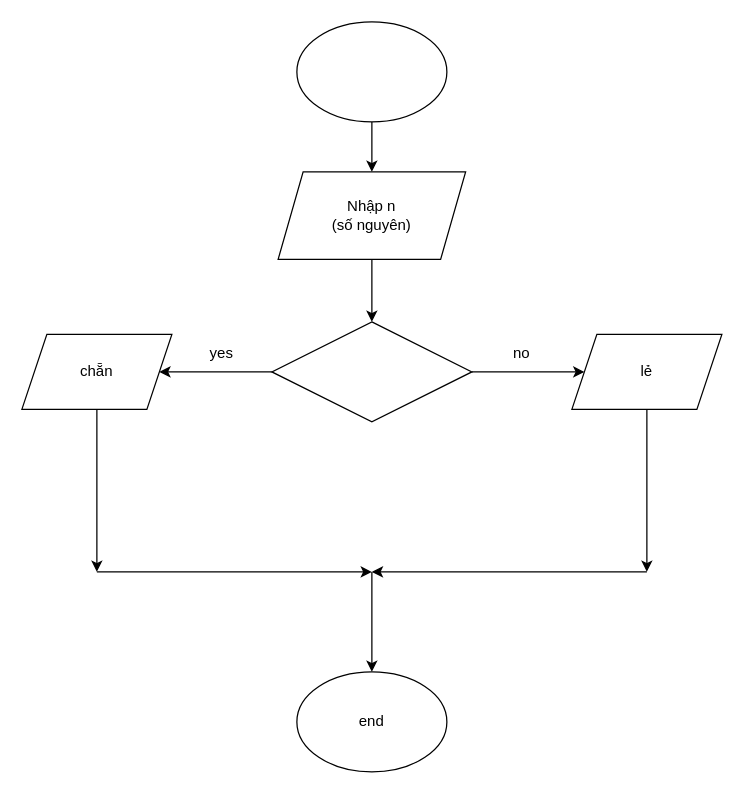
The diagram is 744 pixels wide and 794 high, and some of its shapes have lost their labels. The shapes that lost their labels are listed below. From the top down, each one's centre as x and y in pixels, then its label:
At point 371,71: "start".
At point 371,371: "n chia hết cho 2".
